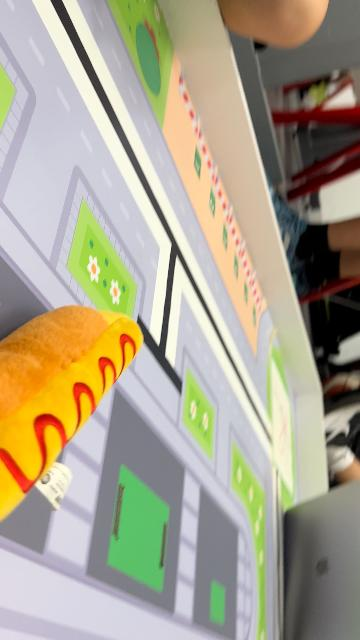hotdog: (2, 304, 146, 524)
